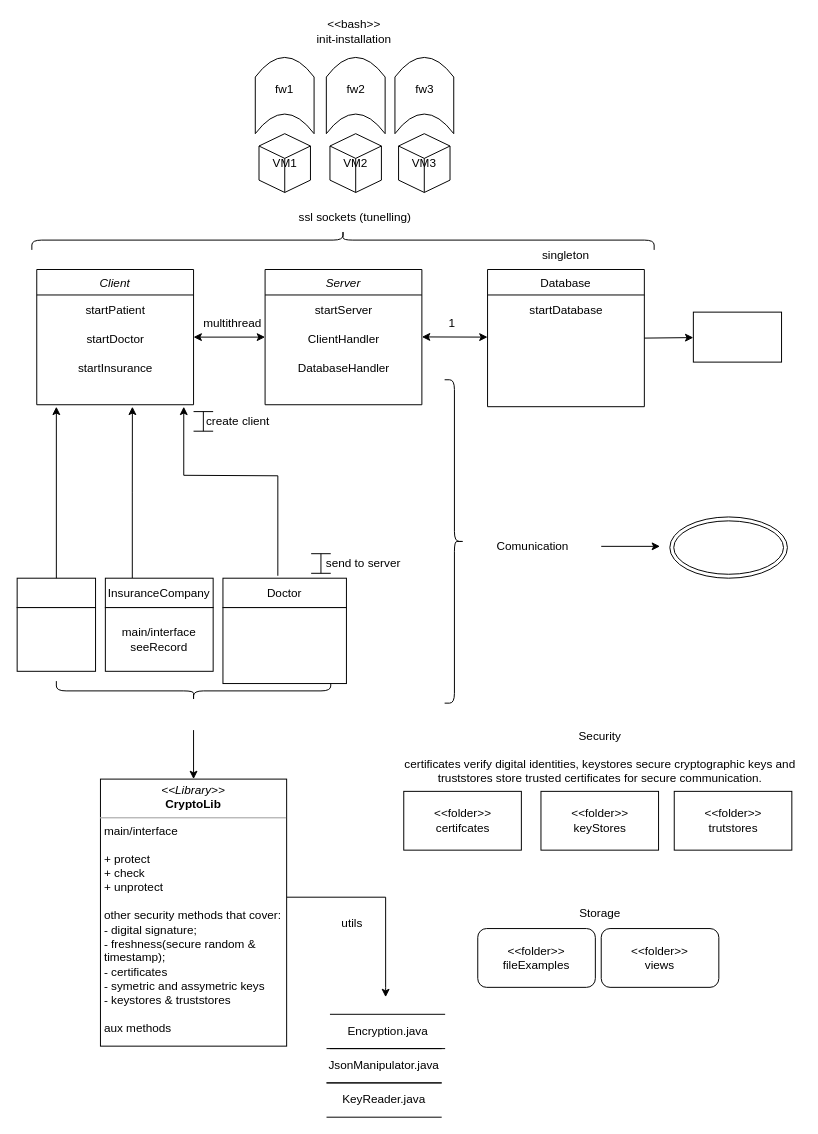
The diagram is 818 pixels wide and 1134 high, and some of its shapes have lost their labels. The centre of each missing label's shape, as x and y in pixels:
<<Serializable>> Message: (728,547)
clients: (193,690)
main/interface searchRecord createRecord removeRecord addConsulationRecord: (284,645)
main/interface seeRecord grantAcess: (56,639)
Patient: (56,592)
serverMongoDB: (737,336)
